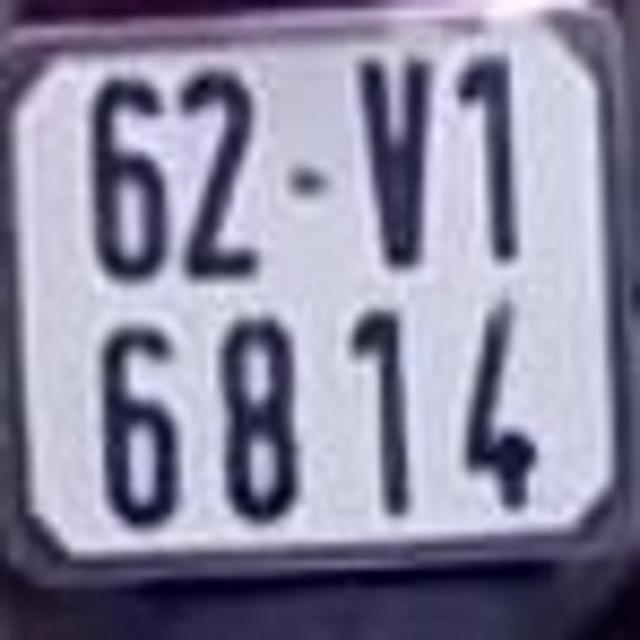1: (344, 303, 424, 524), (452, 52, 528, 262)
2: (178, 68, 258, 284)
4: (450, 298, 548, 520)
6: (94, 319, 188, 532), (82, 68, 171, 284)
8: (212, 311, 302, 528)
V: (351, 55, 436, 266)
